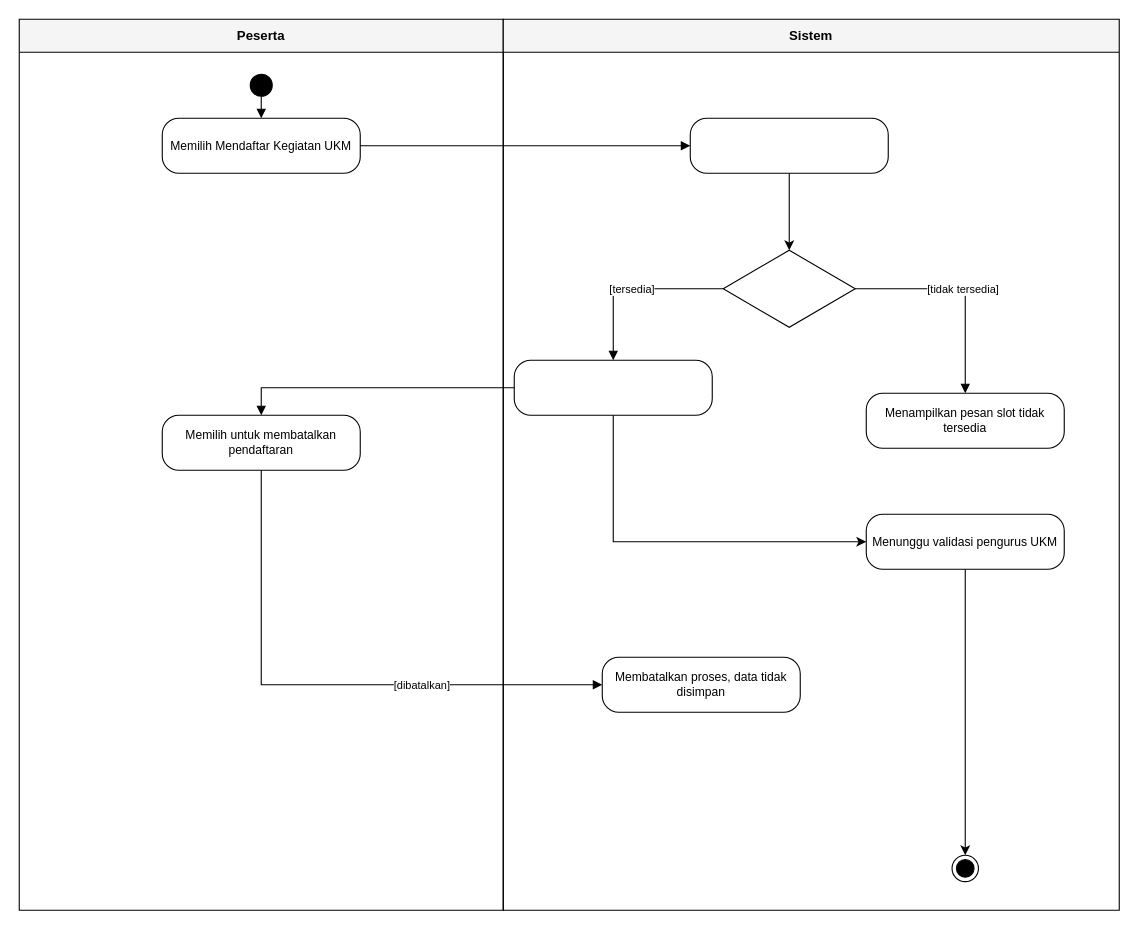
The diagram is 1139 pixels wide and 930 high, and some of its shapes have lost their labels. Here are the shapes that lost their labels. From the top down, the centre of each, then its label:
At [788,145]: "Memeriksa Kouta kegiatan UKM yang didaftarkan".
At [788,288]: "Slot tersedia?".
At [612,387]: "Menampilkan konfirmasi pendaftaran".
